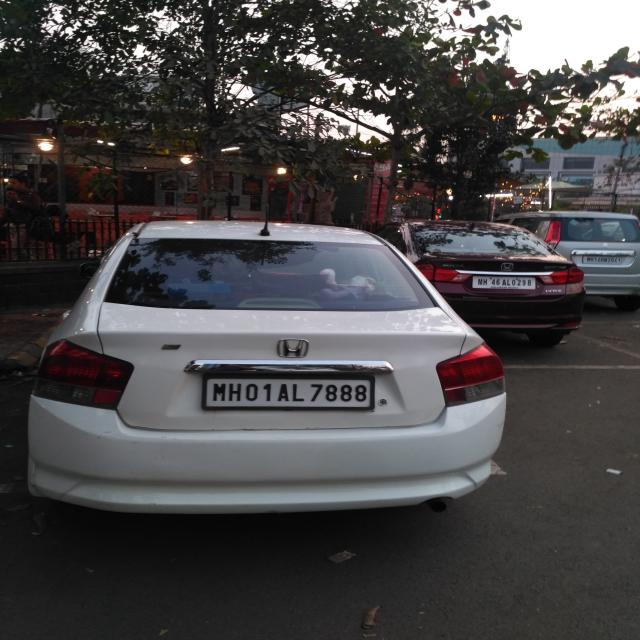Number-Plate: (208, 376, 372, 410)
